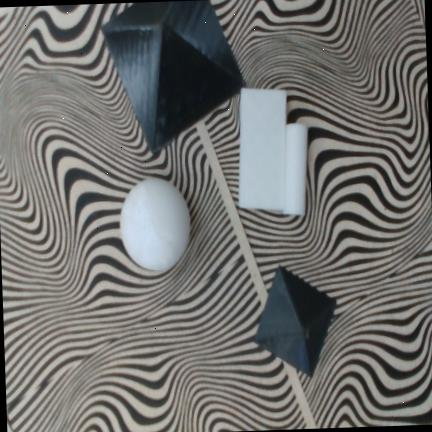Cilindro: (283, 124, 308, 216)
Esfera: (120, 178, 190, 271)
Paralelepipedo: (239, 88, 286, 211)
Piramide: (101, 1, 244, 155), (255, 268, 336, 376)
